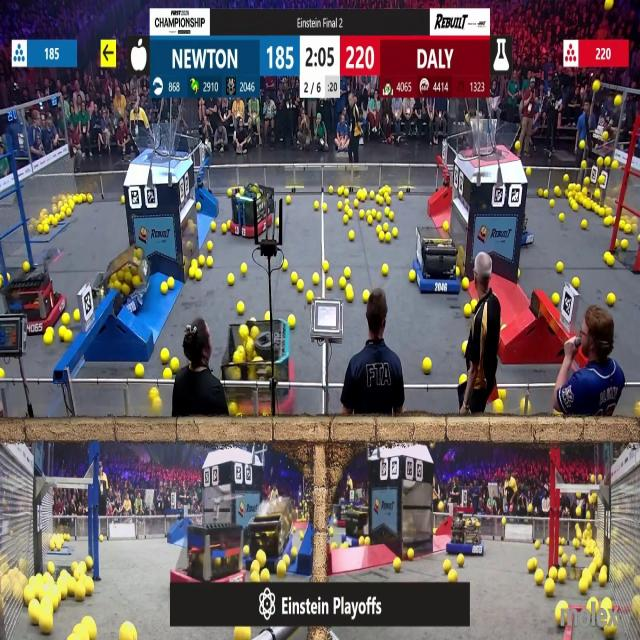ball_airborne: (604, 0, 613, 10), (596, 158, 604, 168), (575, 525, 581, 538), (595, 188, 602, 199), (594, 80, 600, 91), (616, 96, 622, 107), (516, 141, 522, 151), (610, 160, 616, 170), (603, 158, 609, 168), (575, 508, 581, 518), (599, 175, 605, 184), (580, 159, 586, 168), (589, 495, 595, 504), (579, 140, 584, 150), (603, 132, 609, 140), (587, 512, 592, 521), (583, 186, 589, 193), (586, 177, 590, 185)
ball_ground: (122, 624, 137, 640), (41, 616, 52, 636), (544, 581, 554, 597), (75, 586, 85, 602), (277, 562, 287, 577), (604, 625, 614, 640), (598, 570, 607, 586), (257, 552, 266, 568), (534, 570, 544, 584), (86, 582, 95, 597), (162, 349, 171, 363), (494, 399, 503, 413), (578, 581, 587, 595), (240, 324, 249, 338), (346, 287, 354, 302), (152, 398, 160, 413), (556, 610, 563, 627), (558, 569, 567, 582), (423, 358, 431, 372), (449, 569, 458, 581), (606, 292, 614, 305), (136, 363, 144, 376), (171, 358, 179, 371), (64, 331, 72, 344), (528, 559, 536, 572), (90, 626, 98, 639), (394, 558, 401, 572), (44, 334, 52, 346), (262, 569, 270, 581), (230, 405, 238, 417), (550, 567, 558, 579), (288, 315, 295, 328), (464, 305, 471, 318), (238, 303, 245, 315), (445, 560, 452, 572), (362, 290, 369, 302), (313, 274, 320, 286), (63, 314, 70, 326), (606, 253, 613, 265), (88, 557, 95, 569), (150, 387, 157, 399), (621, 240, 629, 250), (556, 264, 564, 274), (498, 389, 506, 399), (635, 402, 640, 418), (358, 190, 366, 200), (458, 554, 464, 567), (553, 293, 560, 304), (408, 550, 415, 561), (165, 366, 172, 377), (188, 269, 195, 280), (60, 326, 67, 337), (162, 283, 169, 294), (569, 555, 576, 566), (74, 310, 80, 322), (326, 278, 332, 290), (462, 278, 468, 290), (227, 274, 233, 286), (251, 572, 259, 581), (47, 562, 53, 574), (322, 262, 329, 272), (296, 281, 303, 291), (572, 278, 579, 288), (602, 599, 609, 609), (341, 278, 347, 289), (207, 256, 213, 267), (382, 266, 388, 277), (291, 273, 297, 284), (168, 278, 174, 289), (345, 268, 351, 279), (308, 290, 314, 301), (200, 255, 206, 266), (462, 343, 468, 354), (242, 265, 248, 275), (194, 270, 200, 280), (282, 262, 288, 272), (24, 264, 30, 274), (460, 375, 466, 385), (554, 185, 560, 195), (385, 234, 391, 244), (604, 216, 610, 226), (190, 258, 196, 268), (571, 202, 577, 212), (221, 222, 227, 232), (244, 544, 250, 554), (359, 536, 365, 546), (43, 223, 49, 233), (562, 555, 568, 565), (588, 602, 594, 612), (439, 501, 445, 511), (564, 188, 571, 196), (339, 202, 345, 211), (349, 232, 355, 241), (562, 601, 568, 610), (526, 168, 532, 177), (386, 212, 392, 221), (88, 193, 94, 202), (386, 197, 392, 206), (377, 212, 383, 221), (620, 220, 626, 229), (625, 223, 631, 232), (368, 190, 374, 199), (378, 197, 384, 206), (291, 549, 297, 558), (411, 272, 416, 282), (266, 312, 271, 322), (208, 242, 213, 252), (359, 210, 364, 220), (392, 229, 397, 239), (195, 202, 200, 212), (380, 234, 386, 242), (534, 540, 540, 548), (550, 201, 556, 209), (354, 200, 360, 208), (583, 220, 589, 228), (537, 188, 543, 196), (370, 210, 376, 218), (286, 197, 292, 205), (470, 298, 476, 306), (344, 188, 350, 196), (445, 221, 450, 230), (315, 202, 320, 211), (564, 174, 569, 183), (542, 188, 547, 197), (338, 188, 344, 195), (367, 216, 372, 224), (344, 215, 349, 223), (348, 209, 353, 217), (276, 218, 281, 226), (384, 223, 389, 231), (322, 204, 327, 212), (501, 518, 506, 526), (67, 208, 72, 216), (0, 368, 4, 377), (560, 213, 564, 222), (212, 221, 216, 230), (456, 268, 460, 277), (343, 542, 349, 548), (398, 191, 403, 198), (560, 537, 565, 544), (559, 546, 564, 553), (331, 542, 336, 549), (378, 224, 382, 232), (227, 188, 231, 196), (328, 185, 332, 193), (299, 531, 303, 539), (329, 528, 333, 536), (432, 528, 436, 535), (545, 537, 549, 544), (345, 200, 349, 207), (0, 275, 4, 282), (100, 535, 104, 541), (120, 198, 123, 205)
goal: (464, 122, 522, 160), (129, 131, 186, 160)
robot_blue: (94, 249, 152, 324), (413, 226, 458, 293), (247, 512, 296, 570), (448, 513, 484, 556), (341, 505, 371, 546)
robot_red: (220, 318, 296, 415), (177, 522, 249, 589), (229, 184, 273, 238), (1, 265, 46, 314)
